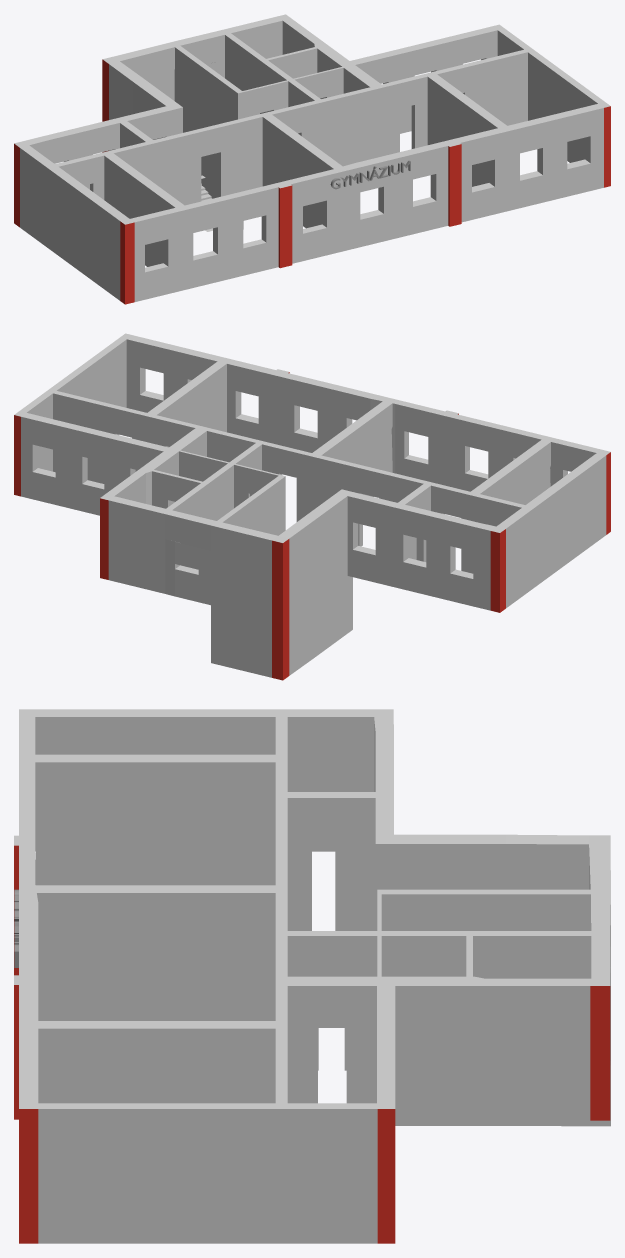
Rendered from DruhePoschodie.gltf.
3 renders of one model, top to bottom at view 1: azimuth 30°, elevation 25°; view 2: azimuth 150°, elevation 25°; view 3: azimuth 270°, elevation 25°, orthographic. The views are drawn at different scales.
Visible parts, largest first — view 1: Planeg, Text; view 2: Planeg; view 3: Planeg.
Part boxes in pixels (left/top/right/bottom): Planeg: left=14, top=14, right=610, bottom=304; Text: left=330, top=160, right=410, bottom=189; Planeg: left=14, top=333, right=610, bottom=680; Planeg: left=14, top=709, right=610, bottom=1243.
Bounding box in the file's own units: 0.371 × 0.1004 × 0.2341.
